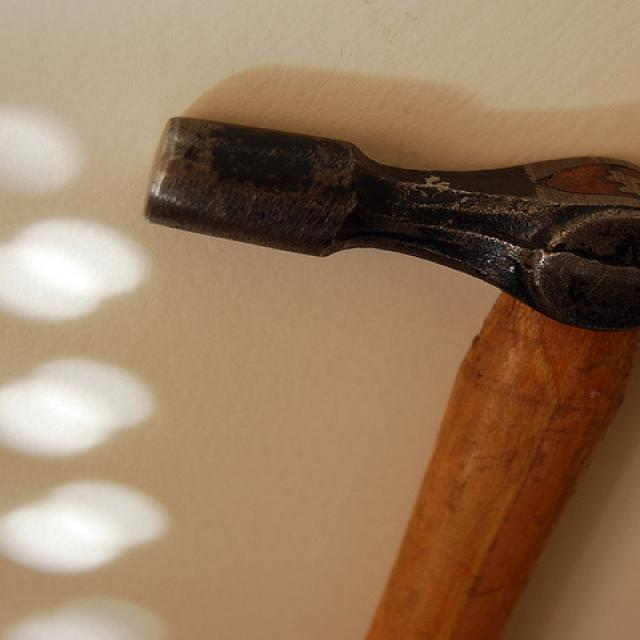hammer: (131, 100, 640, 640)
